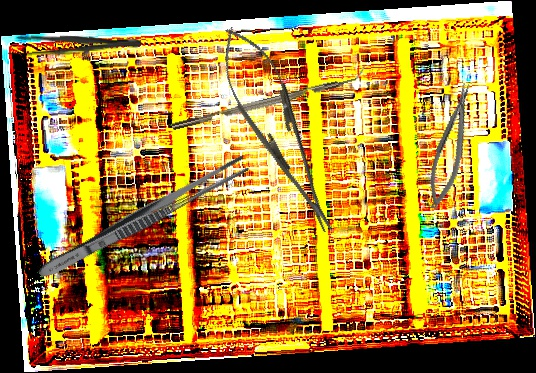Chopper: (169, 65, 369, 131)
Dressing Forceps: (34, 151, 251, 285), (7, 31, 142, 59)
Needle Holder: (203, 17, 352, 243), (419, 80, 484, 213)
